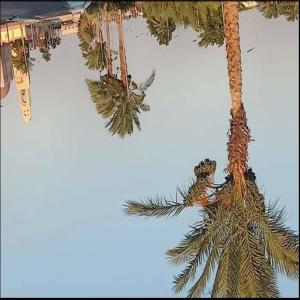palm tree: (121, 1, 299, 297), (76, 1, 156, 138)
